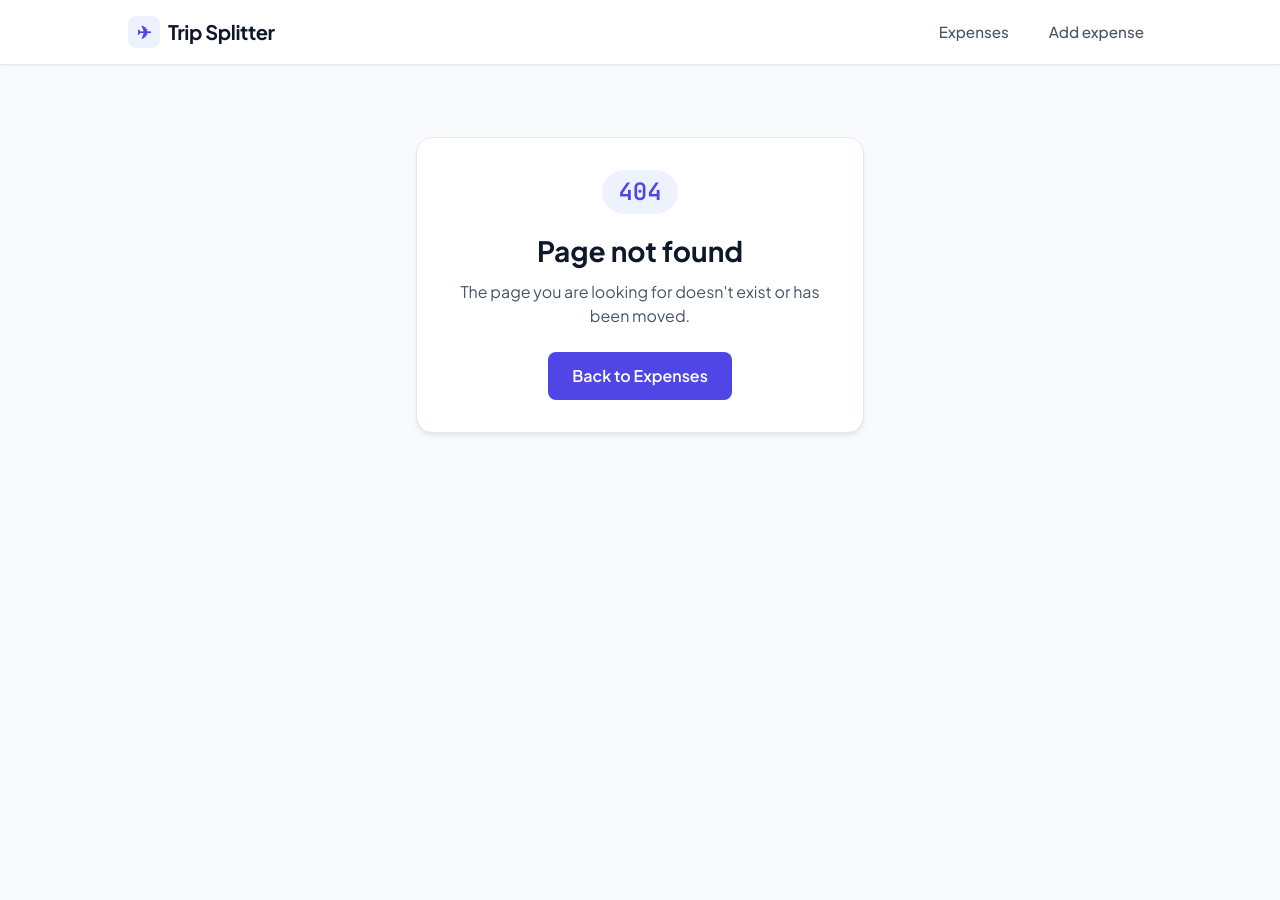
Test: App routing & navigation › renders Page not found for unknown URLs with a link back to Expenses
The image size is (1280, 900).
Check: the heading "Page not found" is shown, box x1=537 y1=233 x2=743 y2=268
Click the link "Back to Expenses".
click(640, 376)  # box x1=548 y1=352 x2=732 y2=400
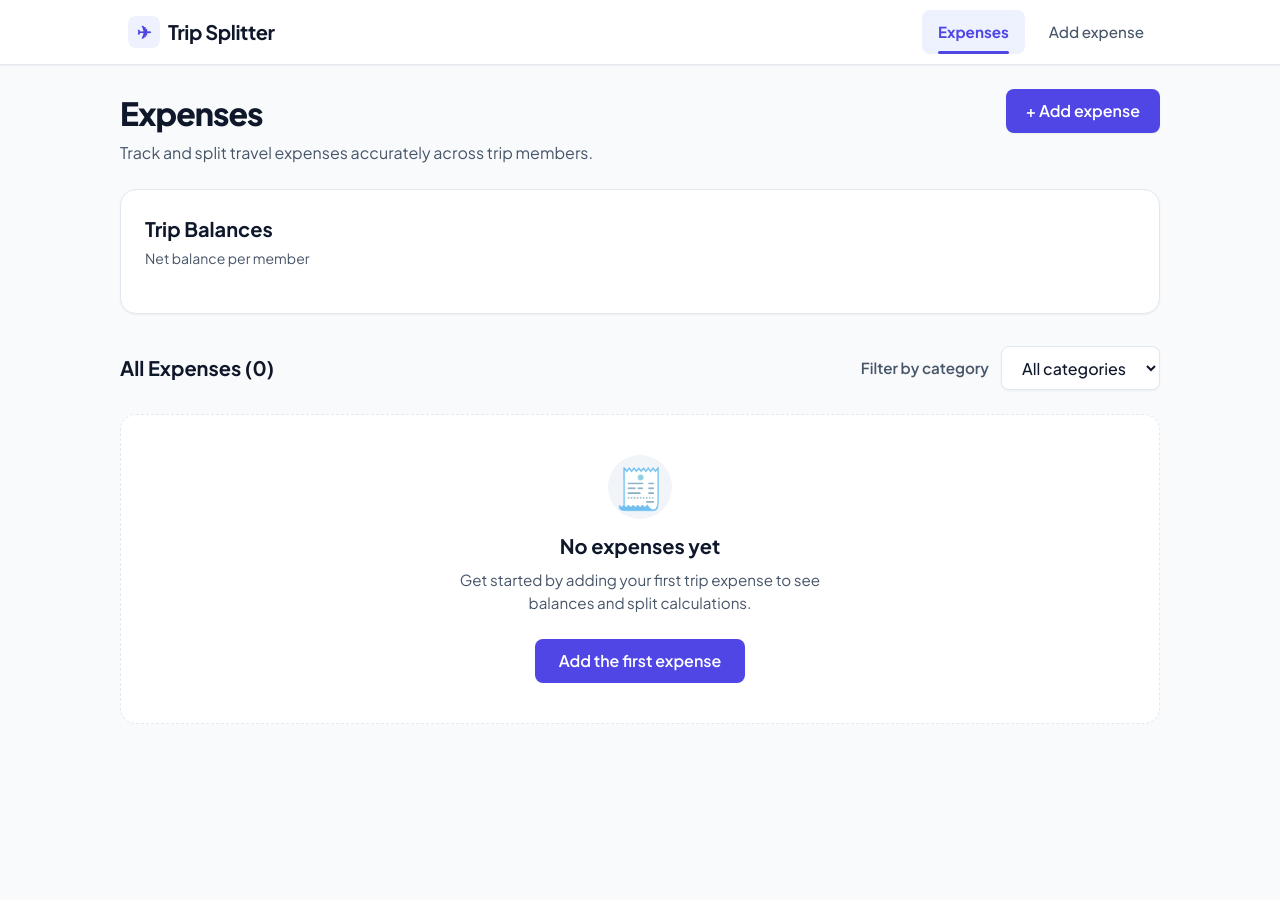
Check: the heading "Expenses" is shown, box x1=120 y1=93 x2=263 y2=133
